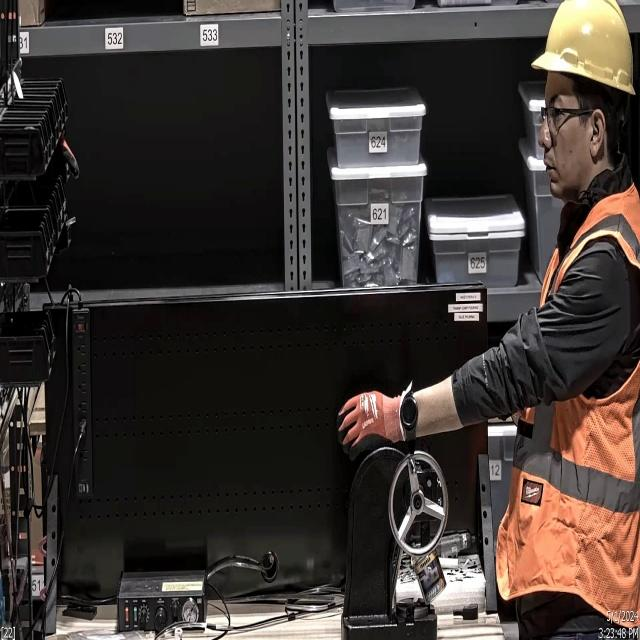gloves: (336, 383, 406, 469)
